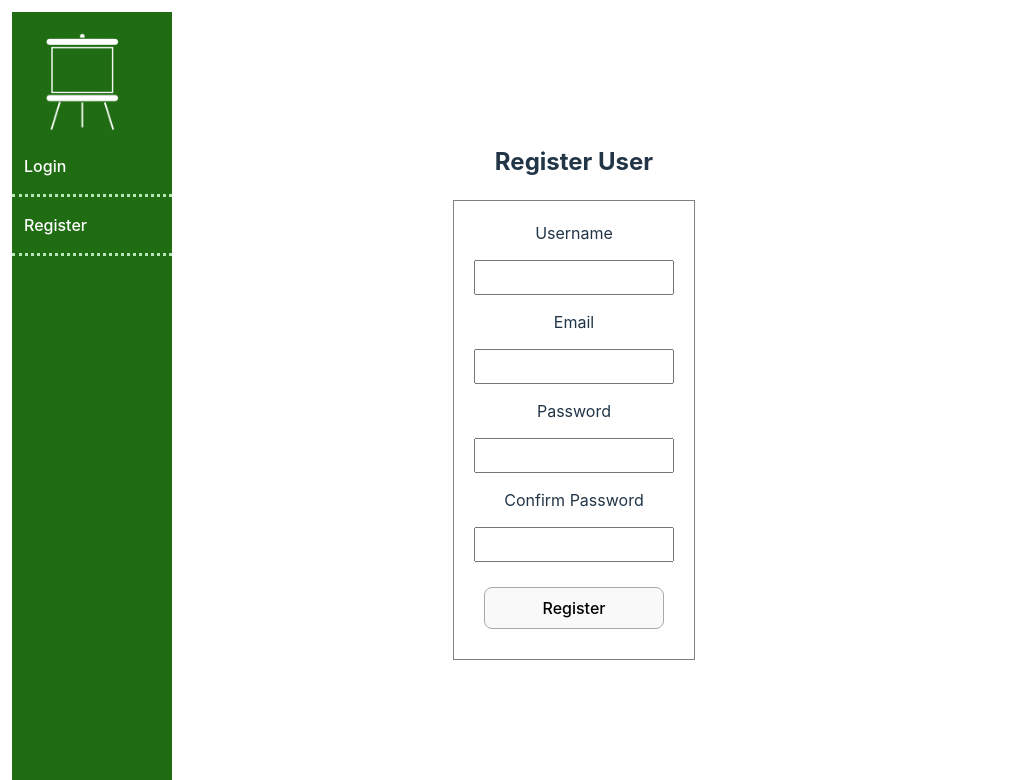
Test case: User Registration › Fails with invalid email
This screenshot has width=1036, height=780.
Type "testuser4" into the field with id "username".
click(574, 278); type("testuser4")  # box [474,260,674,295]
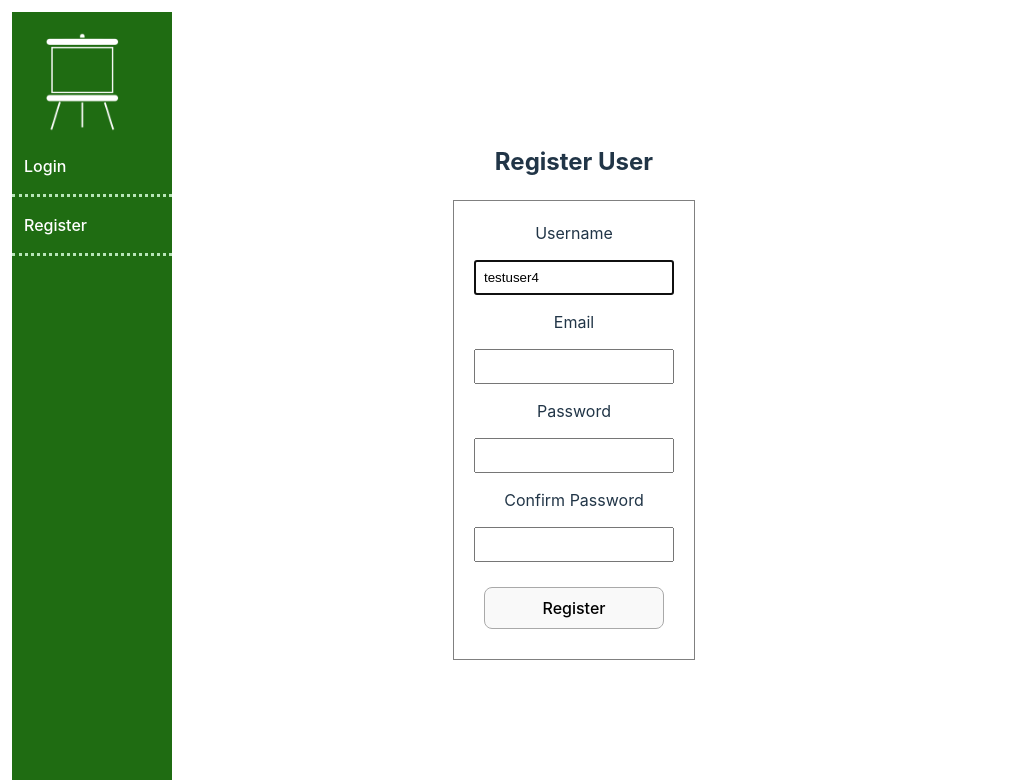
Type "invalidEmail@here" into the field with id "email".
click(574, 367); type("invalidEmail@here")  # box [474,349,674,384]
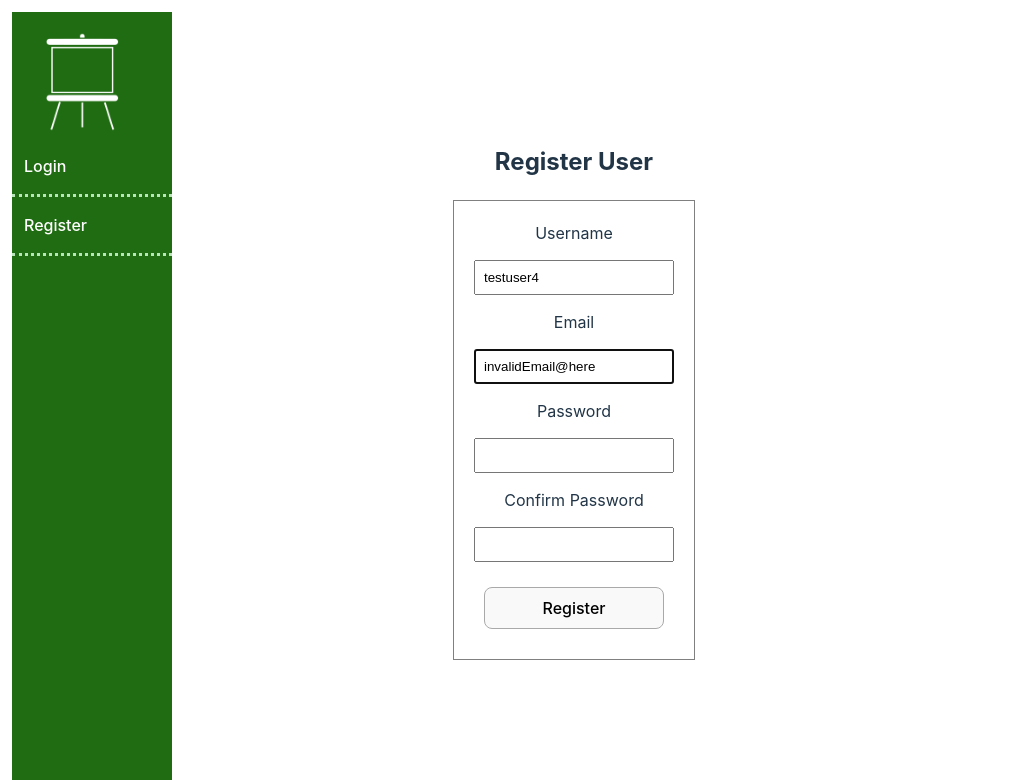
Type "SecurePass123!" into the password field labelled "Password".
click(574, 456); type("SecurePass123!")  # box [474,438,674,473]
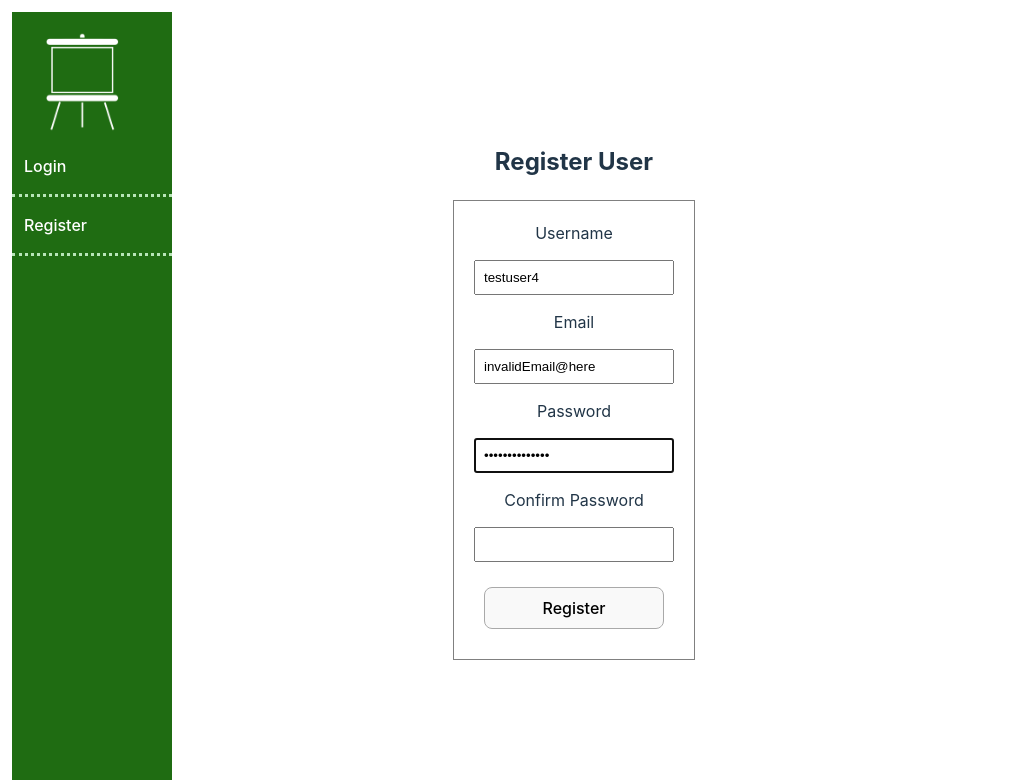
Type "SecurePass123!" into the password field with id "confirmPassword".
click(574, 545); type("SecurePass123!")  # box [474,527,674,562]
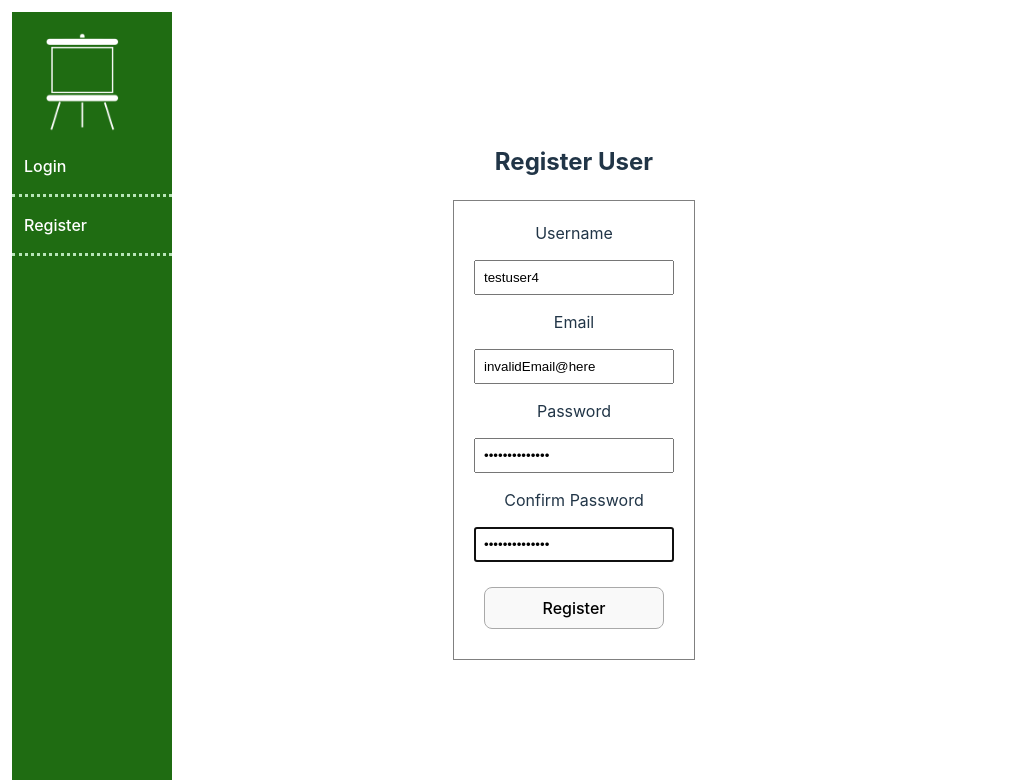
Click the submit button.
click(574, 608)  # box [484,587,664,628]
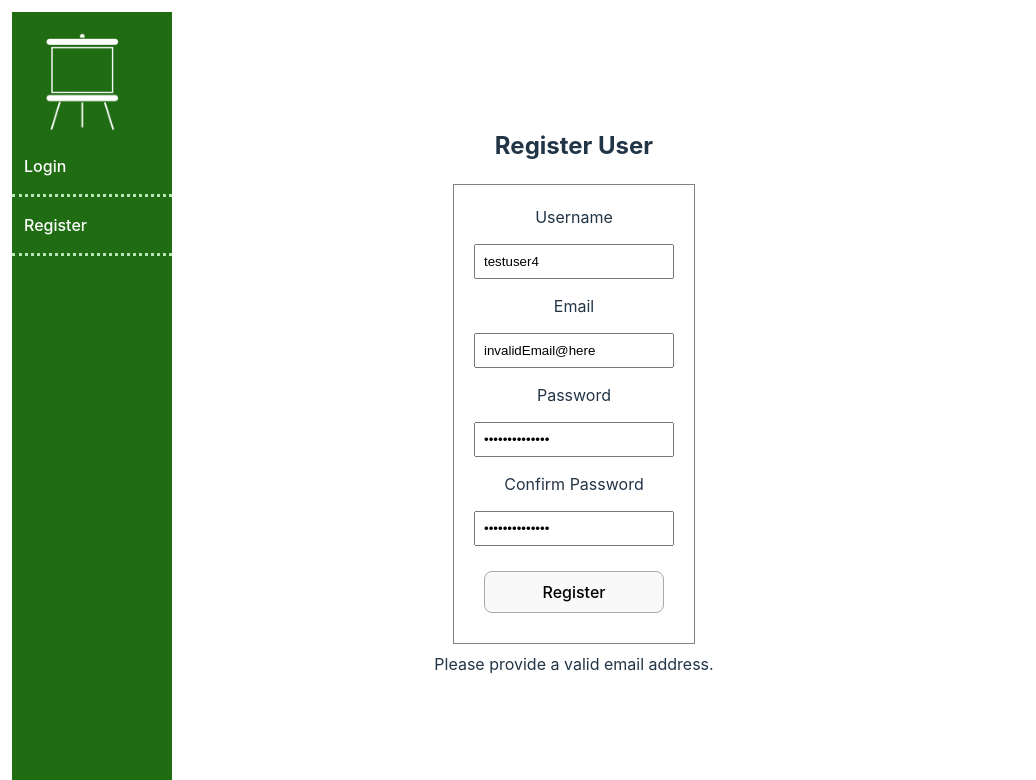
Expected: the text "Please provide a valid email address." is shown, [434,652,714,676]
